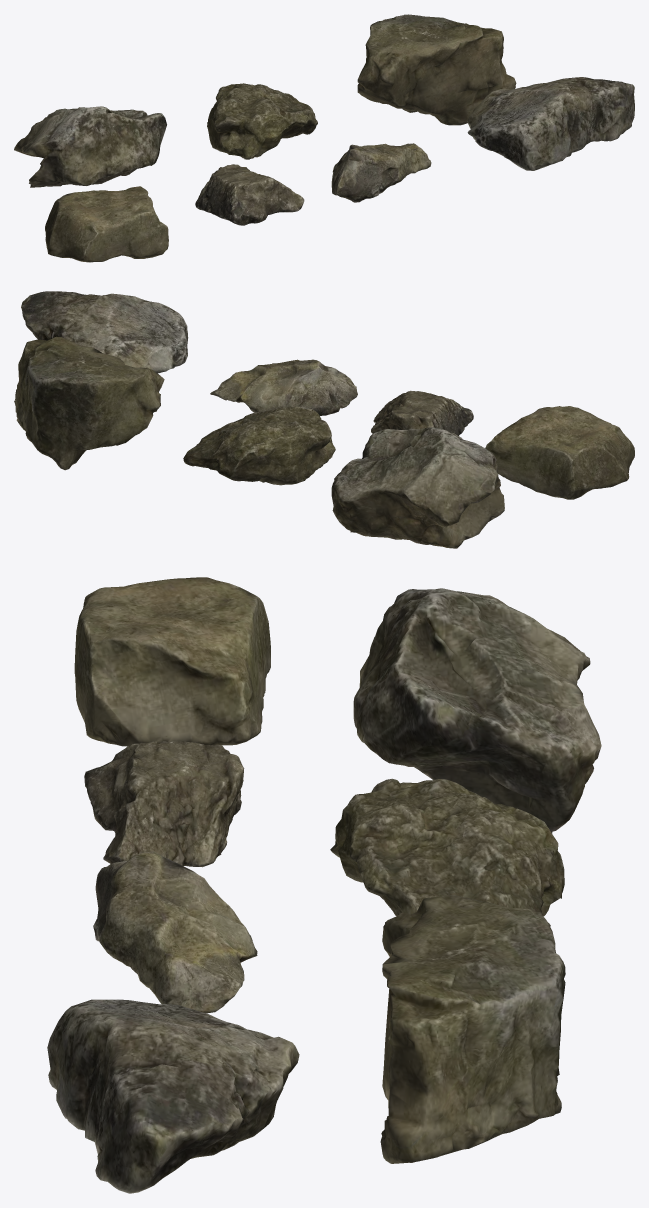
Rendered from rock_moss_set_02.glb.
3 renders of one model, top to bottom at view 1: azimuth 30°, elevation 25°; view 2: azimuth 150°, elevation 25°; view 3: azimuth 270°, elevation 25°, orthographic. The views are drawn at different scales.
Parts seen in each view (by area): view 1: rock_moss_set_02_rock13, rock_moss_set_02_rock10, rock_moss_set_02_rock11, rock_moss_set_02_rock07, rock_moss_set_02_rock12, rock_moss_set_02_rock08, rock_moss_set_02_rock09; view 2: rock_moss_set_02_rock11, rock_moss_set_02_rock13, rock_moss_set_02_rock07, rock_moss_set_02_rock10, rock_moss_set_02_rock12, rock_moss_set_02_rock09, rock_moss_set_02_rock08; view 3: rock_moss_set_02_rock13, rock_moss_set_02_rock11, rock_moss_set_02_rock10, rock_moss_set_02_rock07, rock_moss_set_02_rock12, rock_moss_set_02_rock09, rock_moss_set_02_rock08.
Boxes of the visible parts, x1,y1,x2,y2 form: rock_moss_set_02_rock13: [357, 14, 516, 125]; rock_moss_set_02_rock10: [467, 77, 634, 170]; rock_moss_set_02_rock11: [14, 106, 166, 187]; rock_moss_set_02_rock07: [45, 186, 168, 262]; rock_moss_set_02_rock12: [207, 83, 317, 159]; rock_moss_set_02_rock08: [195, 164, 304, 225]; rock_moss_set_02_rock09: [331, 143, 431, 202]; rock_moss_set_02_rock11: [331, 427, 504, 548]; rock_moss_set_02_rock13: [14, 337, 164, 470]; rock_moss_set_02_rock07: [485, 406, 634, 499]; rock_moss_set_02_rock10: [21, 291, 188, 373]; rock_moss_set_02_rock12: [183, 406, 335, 485]; rock_moss_set_02_rock09: [210, 359, 357, 415]; rock_moss_set_02_rock08: [371, 390, 473, 435]; rock_moss_set_02_rock13: [380, 895, 565, 1163]; rock_moss_set_02_rock11: [353, 588, 601, 833]; rock_moss_set_02_rock10: [47, 999, 299, 1193]; rock_moss_set_02_rock07: [74, 577, 270, 746]; rock_moss_set_02_rock12: [330, 778, 564, 926]; rock_moss_set_02_rock09: [93, 851, 257, 1013]; rock_moss_set_02_rock08: [84, 741, 244, 867].
Bounding box in the file's own units: 8.28 × 1.37 × 3.41.
Materials: 1 (1 with a texture image).
